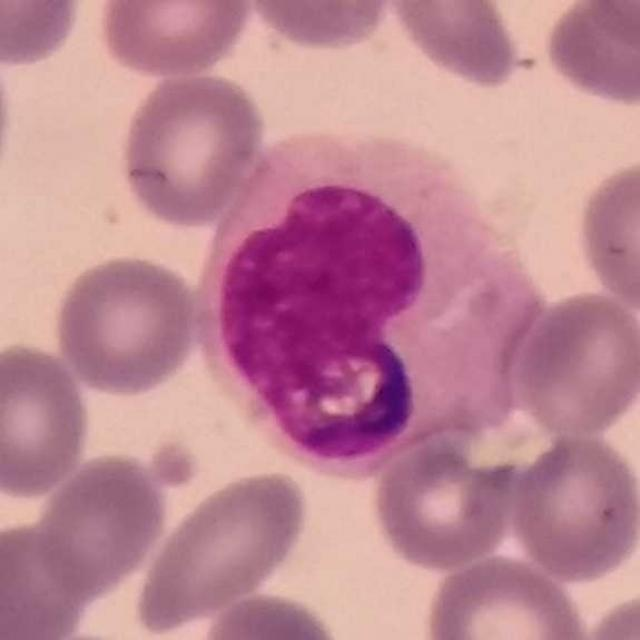Monocyte: (189, 126, 546, 484)
RBC: (130, 464, 314, 635), (116, 68, 268, 229), (51, 251, 203, 398), (30, 447, 171, 601), (367, 433, 521, 573), (505, 428, 639, 584), (510, 287, 640, 439), (0, 337, 95, 500), (420, 552, 594, 640), (382, 0, 540, 91), (92, 0, 255, 81), (0, 517, 97, 640), (538, 0, 640, 110), (572, 153, 640, 317), (237, 0, 402, 55), (193, 587, 348, 640), (0, 0, 88, 70), (581, 585, 640, 640)
